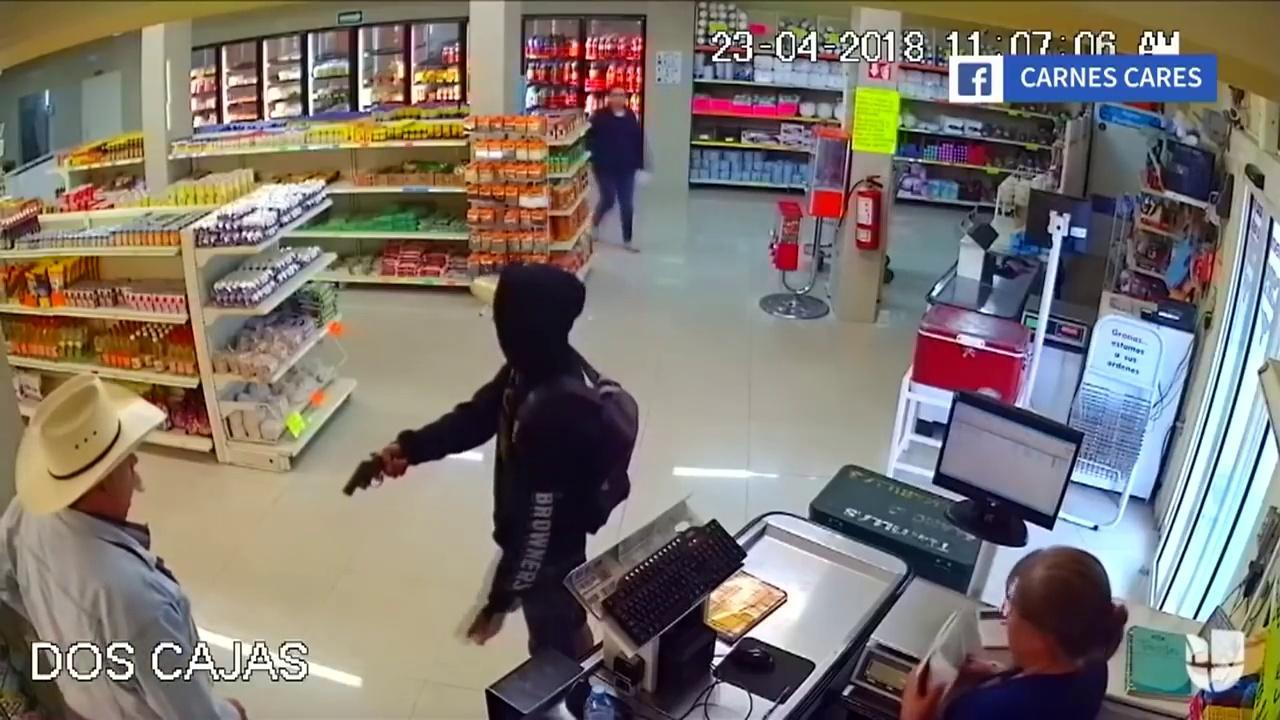Guns perspective: (334, 430, 397, 523)
